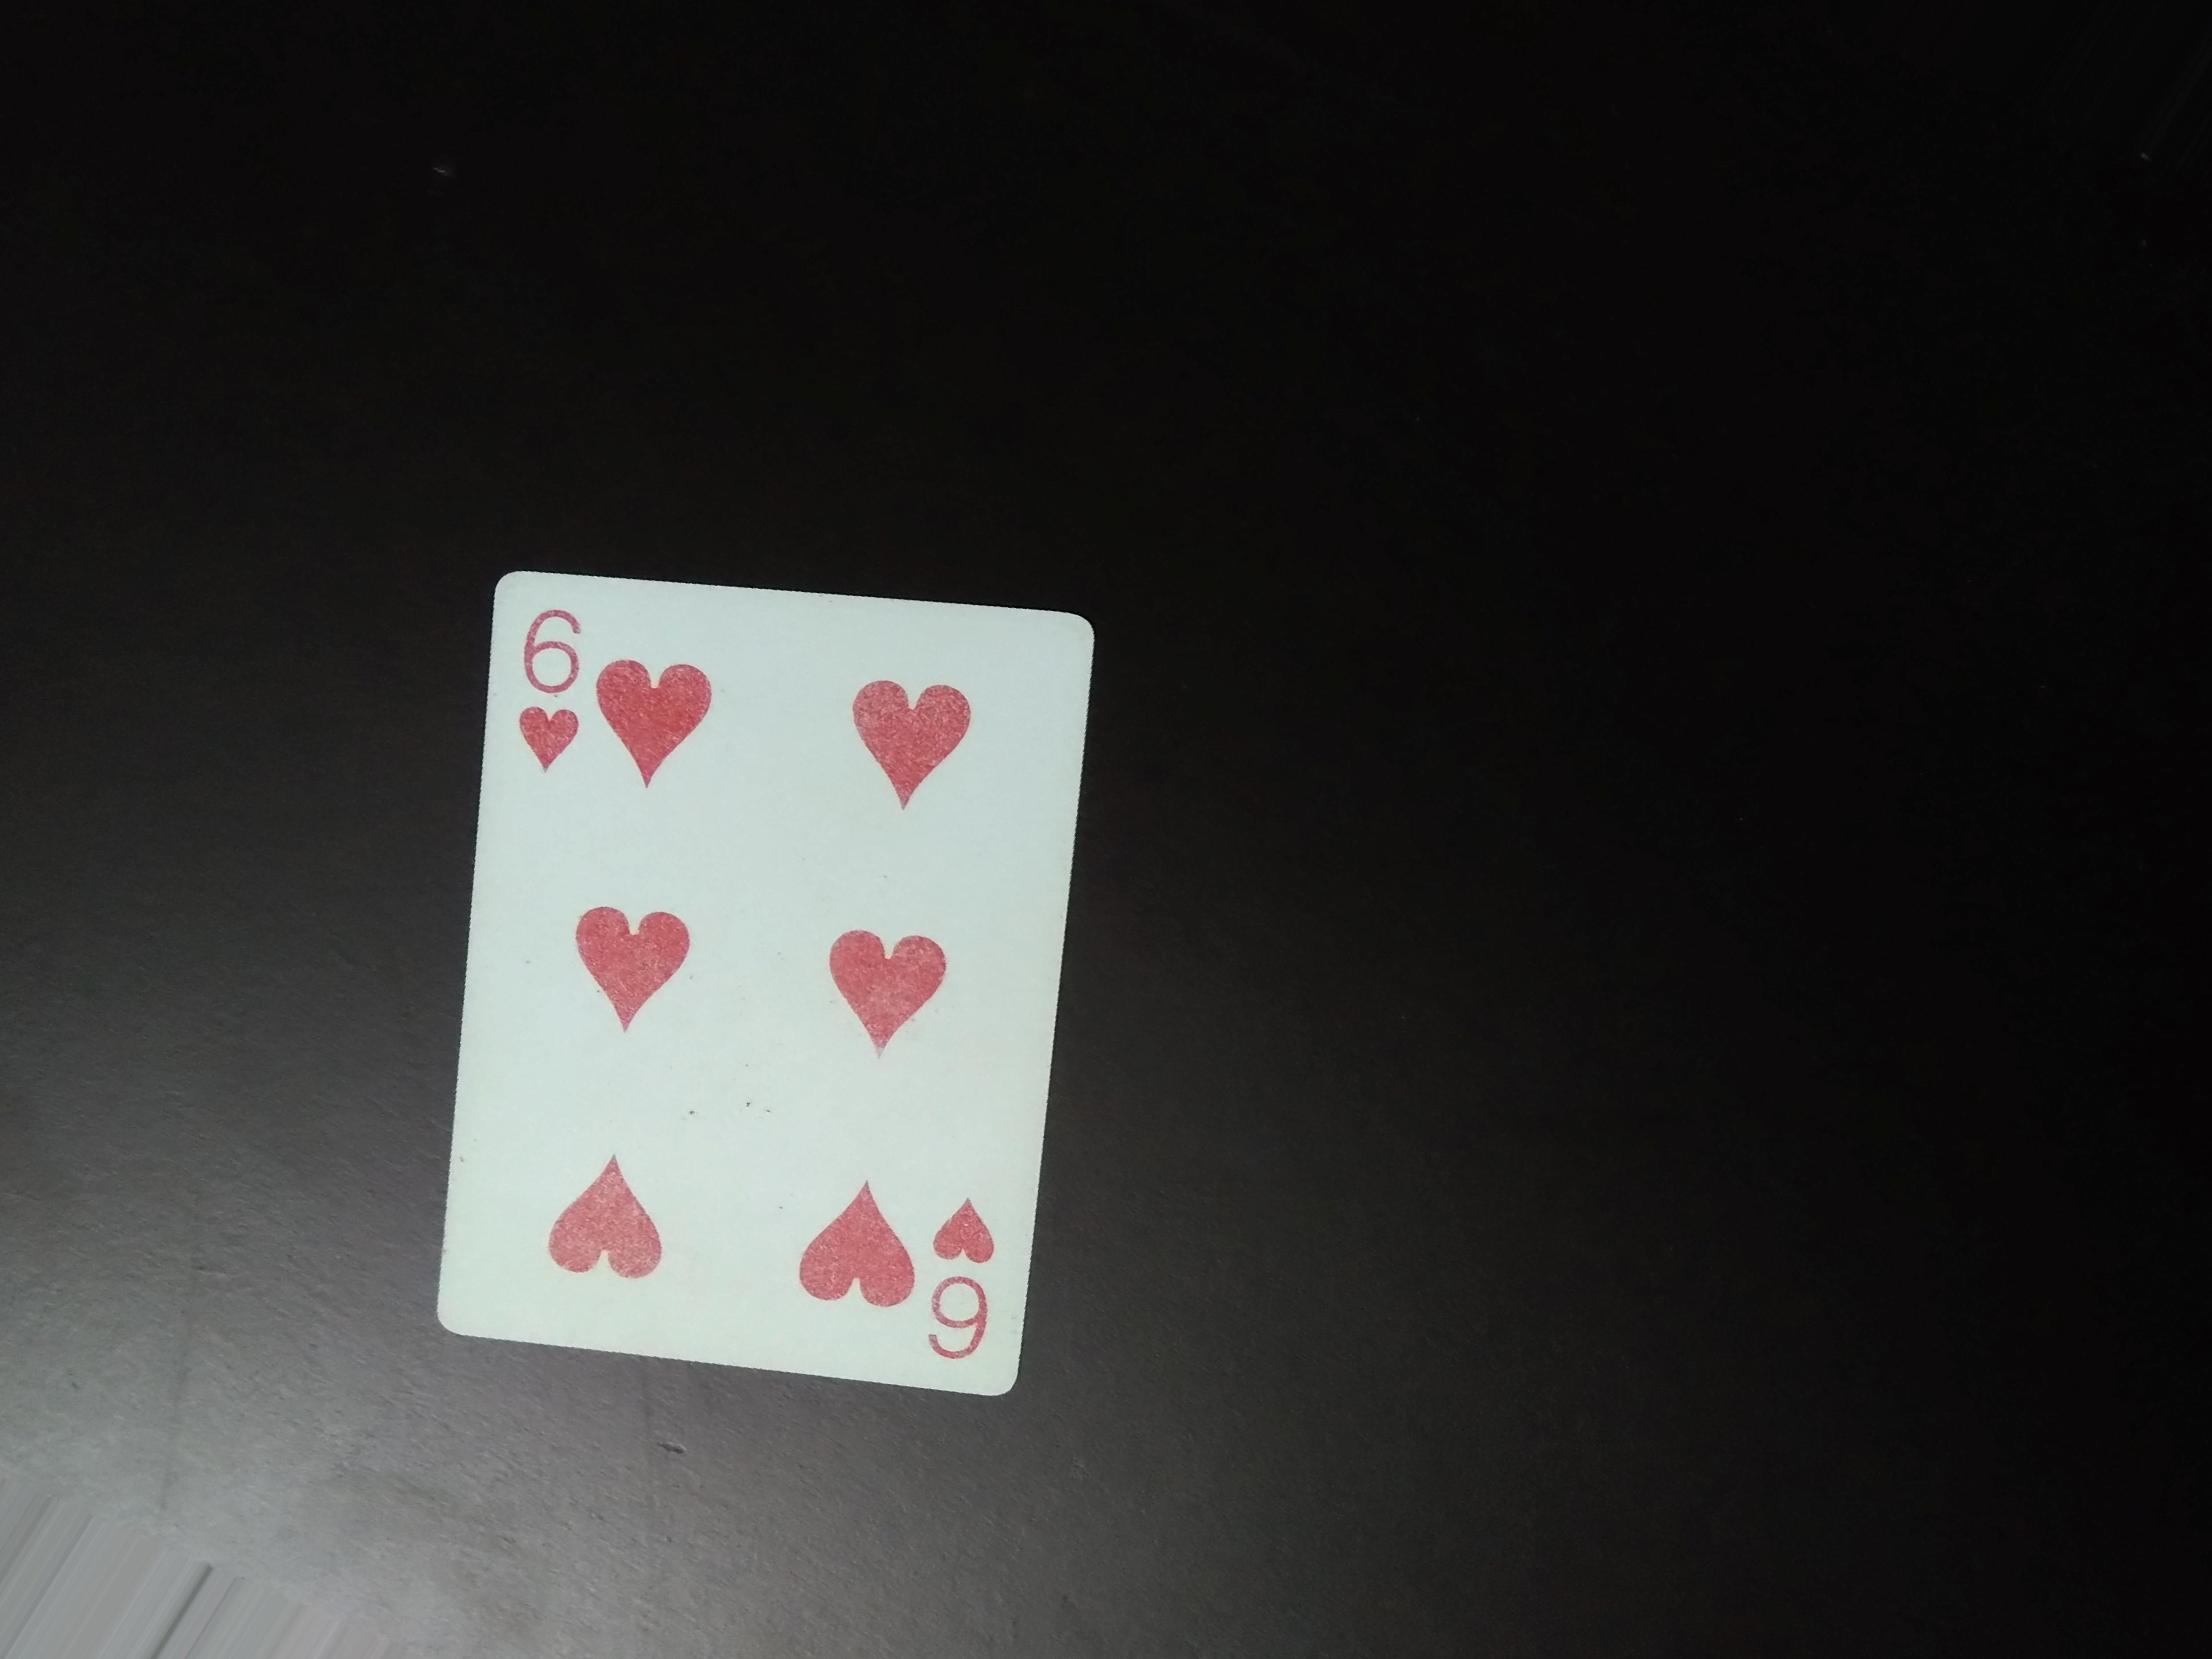6H: (930, 1195, 993, 1354)
